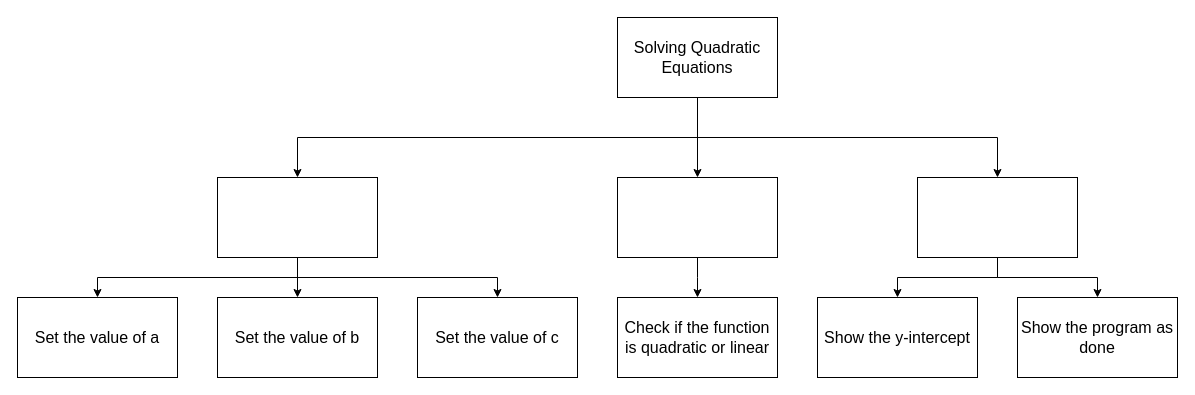
Some shapes in this 1195 by 395 pixel diagram are drawn without their labels. Here are the shapes that lost their labels. From the top down, the centre of each, then its label:
At (x=297, y=217): "Input".
At (x=697, y=217): "Process".
At (x=997, y=217): "Output".
